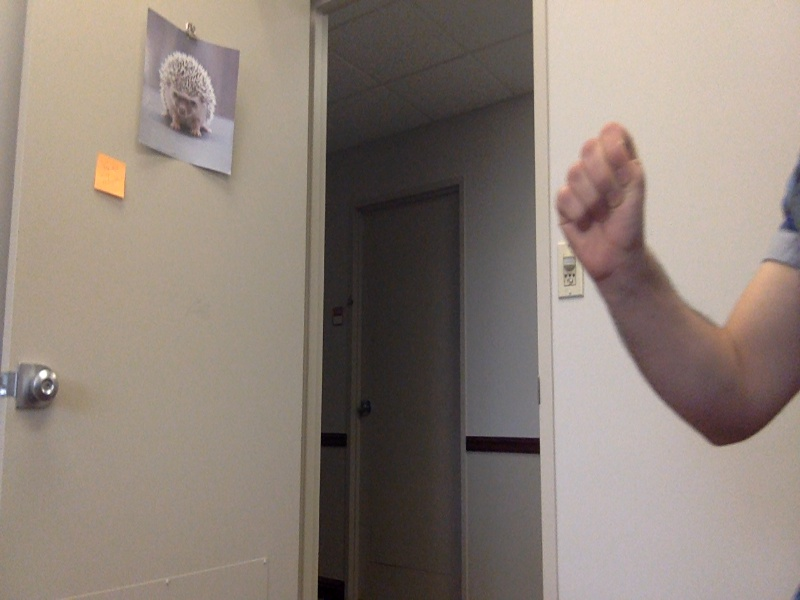0-hand: (551, 122, 647, 285)
